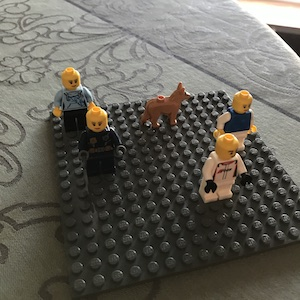Lego: (197, 132, 253, 207), (77, 106, 126, 180), (50, 66, 99, 138), (214, 89, 259, 153)
